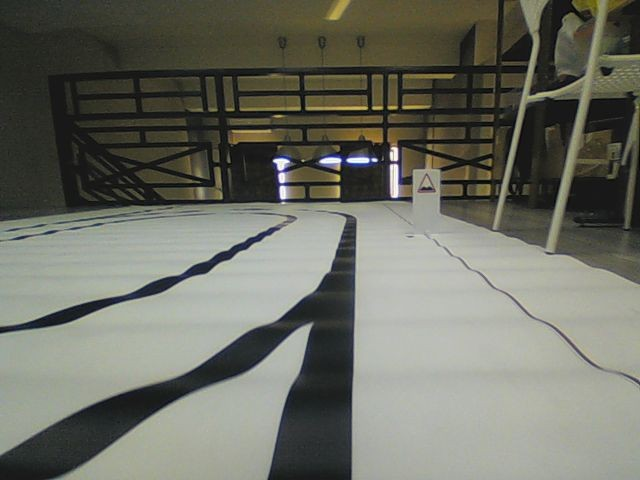Nerov: (417, 171, 436, 194)
